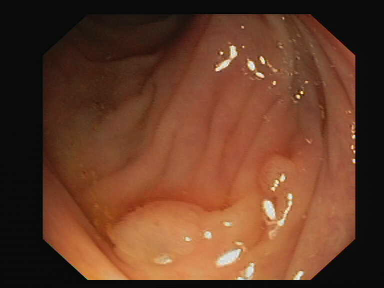polyp: (100, 180, 220, 259), (242, 140, 305, 207)
